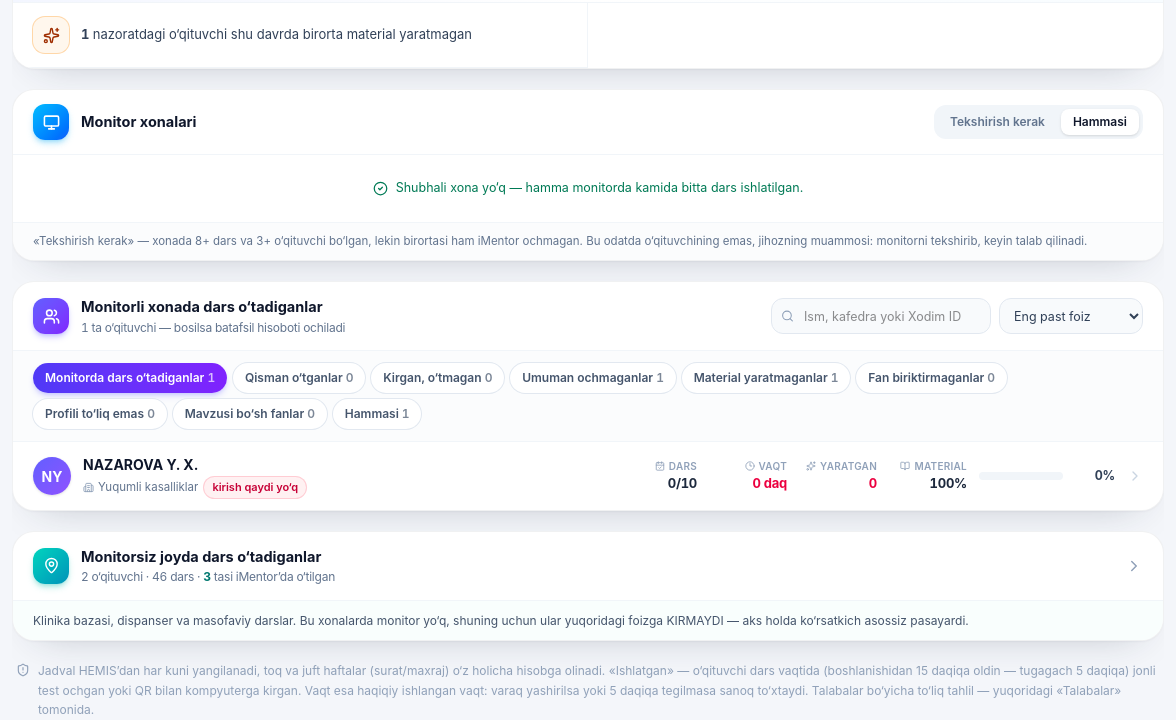
Test: Monitorsiz joy bo‘limi › ochilganda o‘qituvchilar ham chiqadi
(page scrolled)
Click the text "Monitorsiz joyda dars o‘tadiganlar". click: (201, 556)
box: [81, 548, 321, 565]
(page scrolled)
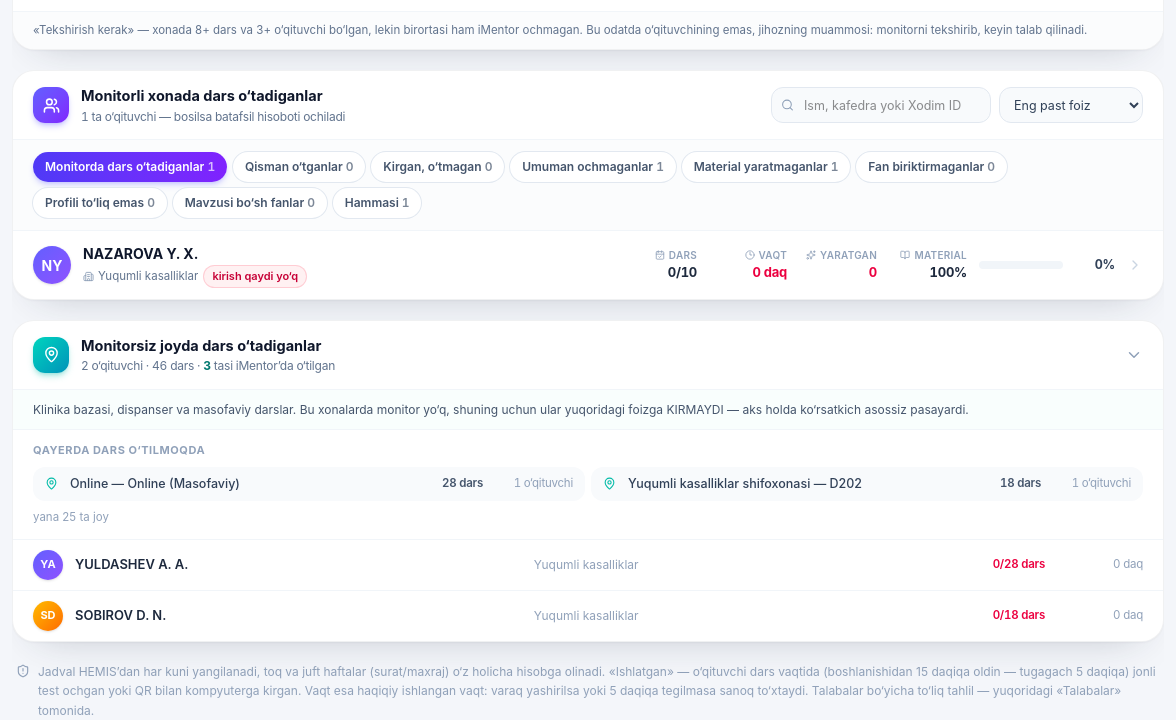
Expected: the text "YULDASHEV A. A." is shown, [75, 556, 188, 572]
Expected: the text "SOBIROV D. N." is shown, [75, 607, 166, 623]
